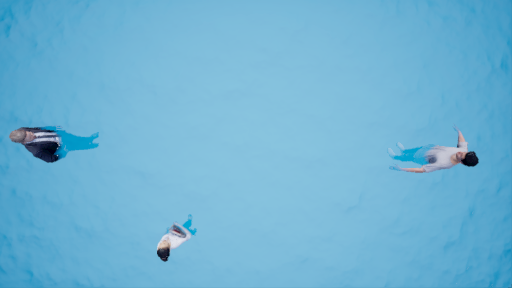person: (387, 125, 481, 175), (10, 124, 102, 166), (150, 212, 202, 263)
